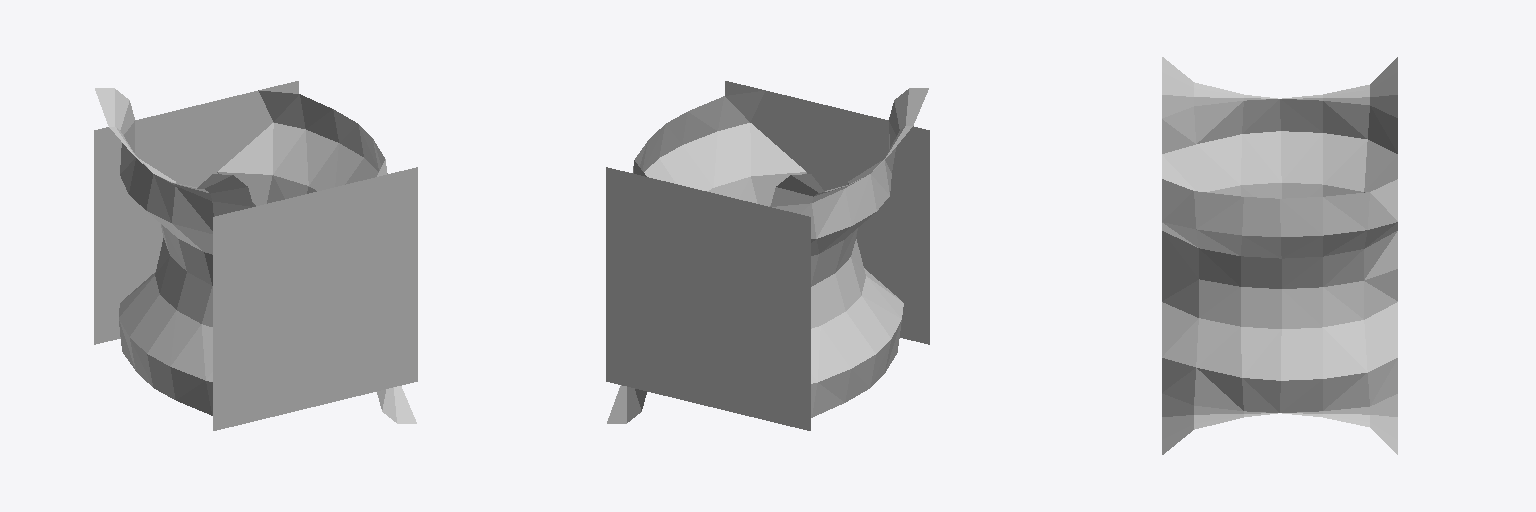
Rendered from cave_doorway.obj.
3 renders of one model, left to right at view 1: azimuth 30°, elevation 25°; view 2: azimuth 150°, elevation 25°; view 3: azimuth 270°, elevation 25°, orthographic.
Parts seen in each view (by area): view 1: Plane, Plane.002_Plane.007; view 2: Plane, Plane.002_Plane.007; view 3: Plane.002_Plane.007.
Part boxes in pixels (bbox=[...]): Plane: bbox=[94, 81, 417, 430]; Plane.002_Plane.007: bbox=[95, 88, 416, 423]; Plane: bbox=[606, 81, 929, 430]; Plane.002_Plane.007: bbox=[607, 88, 928, 423]; Plane.002_Plane.007: bbox=[1162, 57, 1397, 454].
Bounding box in the file's own units: 1.07 × 1.4 × 1.